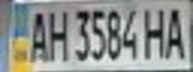3: (69, 5, 93, 62)
4: (121, 3, 142, 60)
5: (87, 4, 109, 61)
8: (106, 4, 124, 61)
A: (160, 2, 190, 60), (21, 6, 51, 63)
H: (139, 2, 172, 60), (42, 5, 69, 62)
